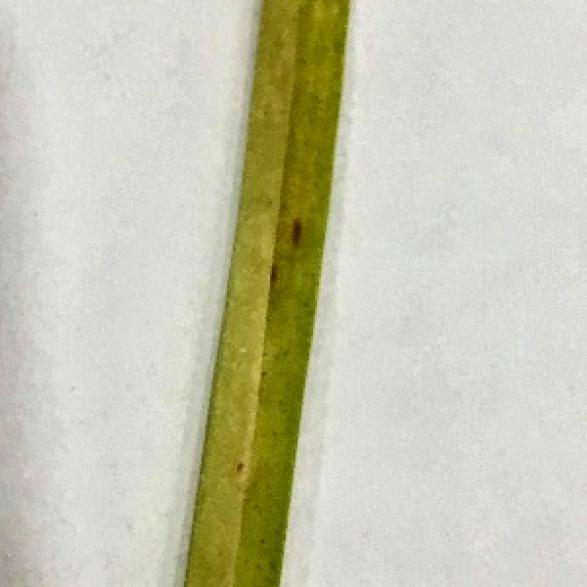Leaf_smut: (252, 190, 313, 317)
